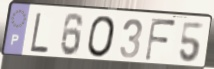3: (119, 18, 144, 60)
5: (177, 20, 204, 64)
6: (59, 12, 84, 58)
F: (143, 17, 178, 64)
L: (29, 11, 50, 55)
O: (86, 14, 117, 59)
